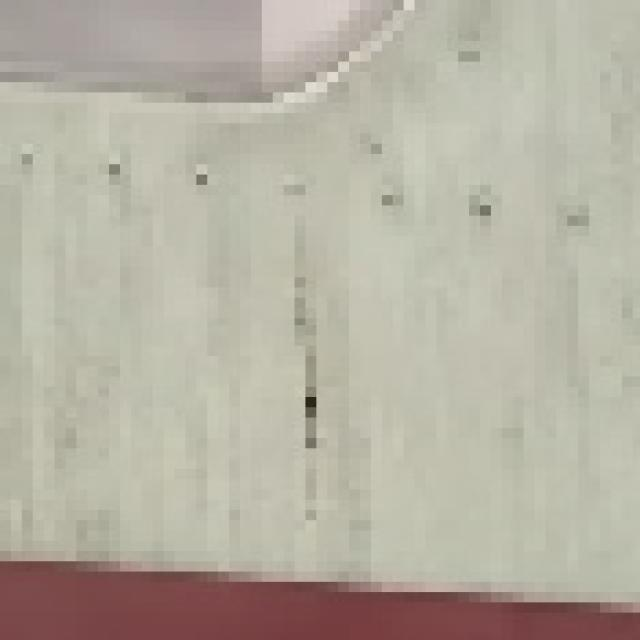crack: (266, 243, 350, 514)
